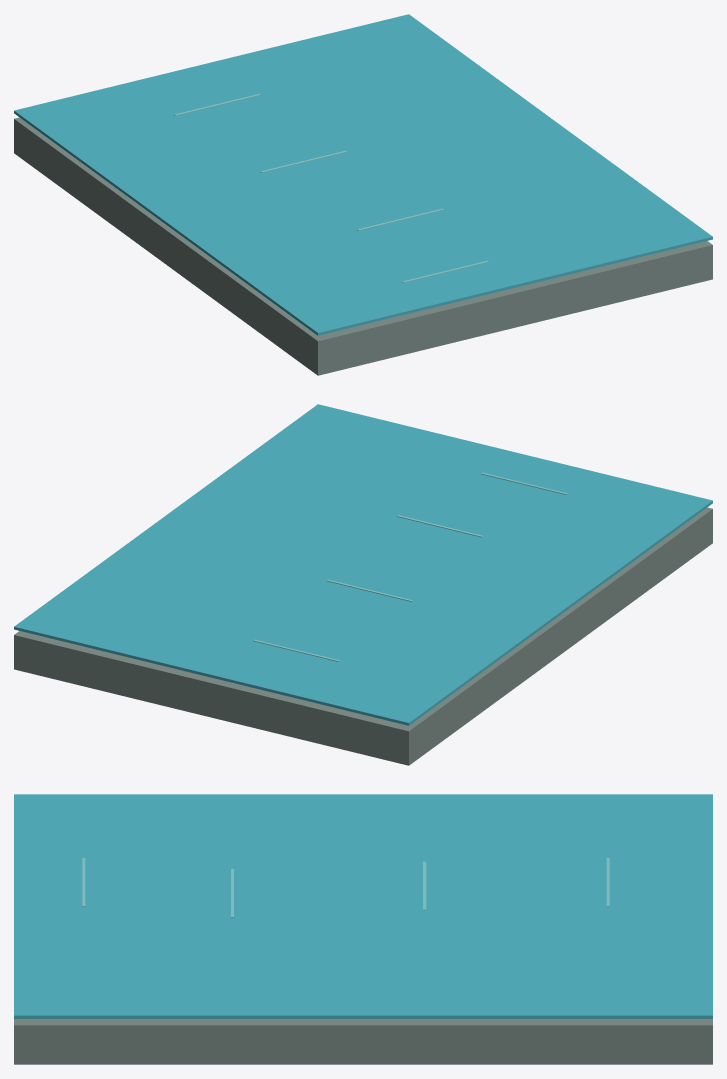
The model's file is river_straight.glb.
The picture shows the model from 3 angles, top to bottom: view 1: azimuth 30°, elevation 25°; view 2: azimuth 150°, elevation 25°; view 3: azimuth 270°, elevation 25°; orthographic projection. The views are drawn at different scales.
Visible parts, largest first — view 1: river_straight; view 2: river_straight; view 3: river_straight.
Part boxes in pixels (<box>): river_straight: <box>14,14,712,375</box>; river_straight: <box>14,404,712,765</box>; river_straight: <box>14,794,712,1064</box>.
Bounding box in the file's own units: 6 × 0.631 × 8.
